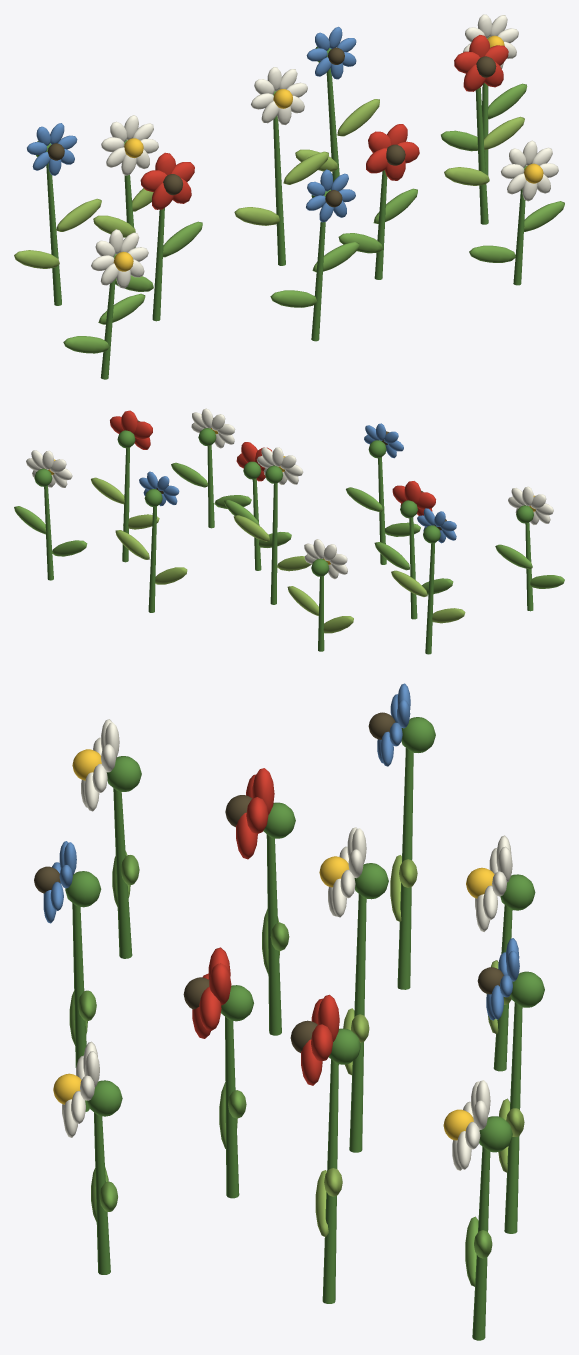
Rendered from flower_patch.glb.
3 views of the same model, one above another, from view 1: azimuth 30°, elevation 25°; view 2: azimuth 150°, elevation 25°; view 3: azimuth 270°, elevation 25° (orthographic). The views are drawn at different scales.
Visible parts, largest first — view 1: flower_patch; view 2: flower_patch; view 3: flower_patch.
Boxes of the visible parts, box(x1,y1,x2,y2) form: flower_patch: box(14, 14, 564, 379); flower_patch: box(14, 408, 564, 654); flower_patch: box(34, 683, 544, 1340).
Bounding box in the file's own units: 1.99 × 0.6544 × 0.956.
